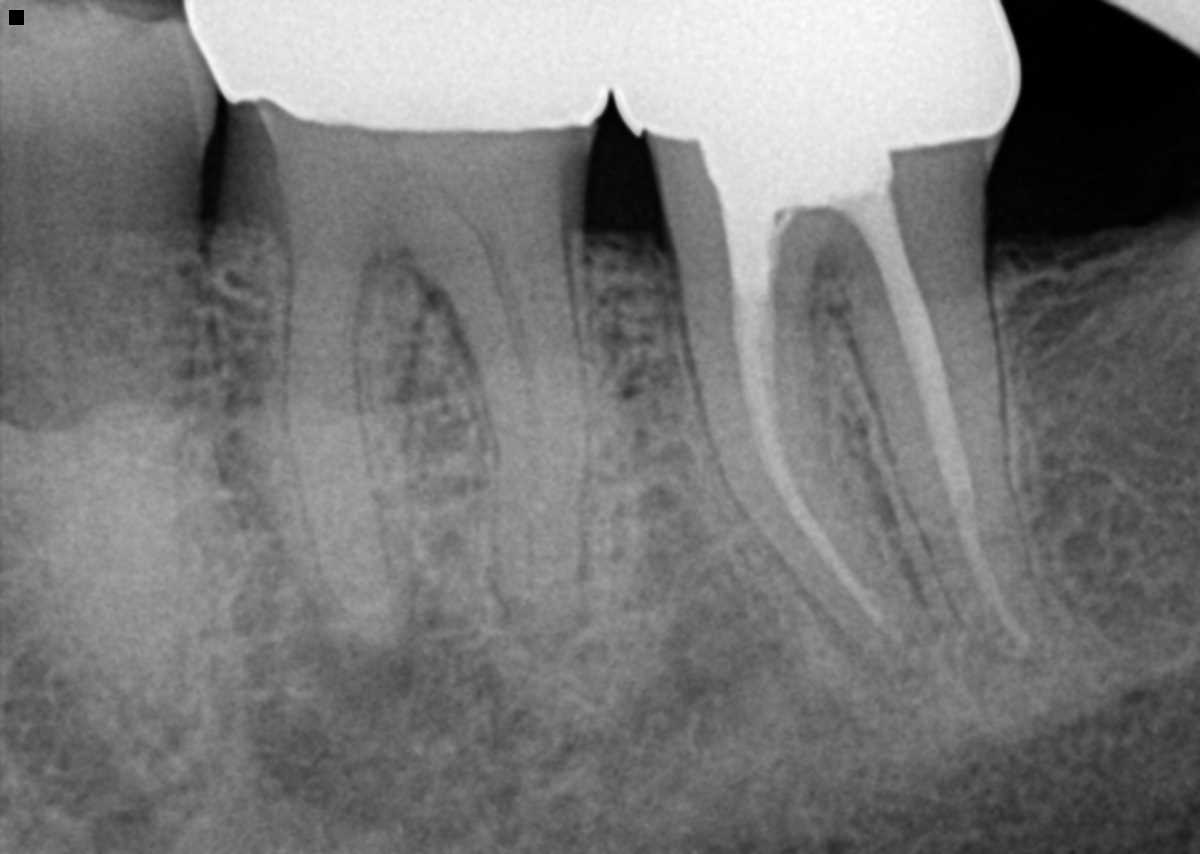Apical Lesion: (230, 552, 513, 839), (493, 563, 597, 653)
Distal Canal: (491, 249, 539, 600)
Distal Root: (833, 262, 1063, 666), (443, 227, 586, 636)
Main Canal: (40, 242, 138, 679)
Main Root: (0, 240, 200, 719)
Mesial Root: (679, 273, 929, 659), (231, 265, 425, 643)
Root Canal Filling: (851, 180, 1033, 648), (729, 206, 903, 640)
